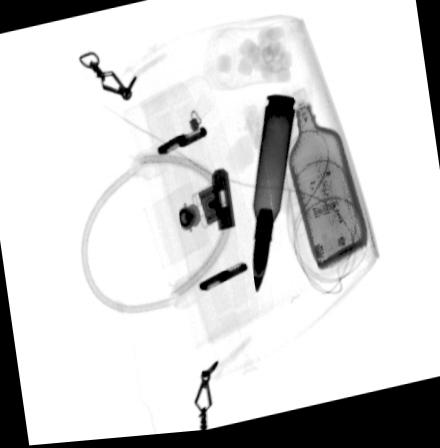Bullet: (252, 97, 297, 298)
